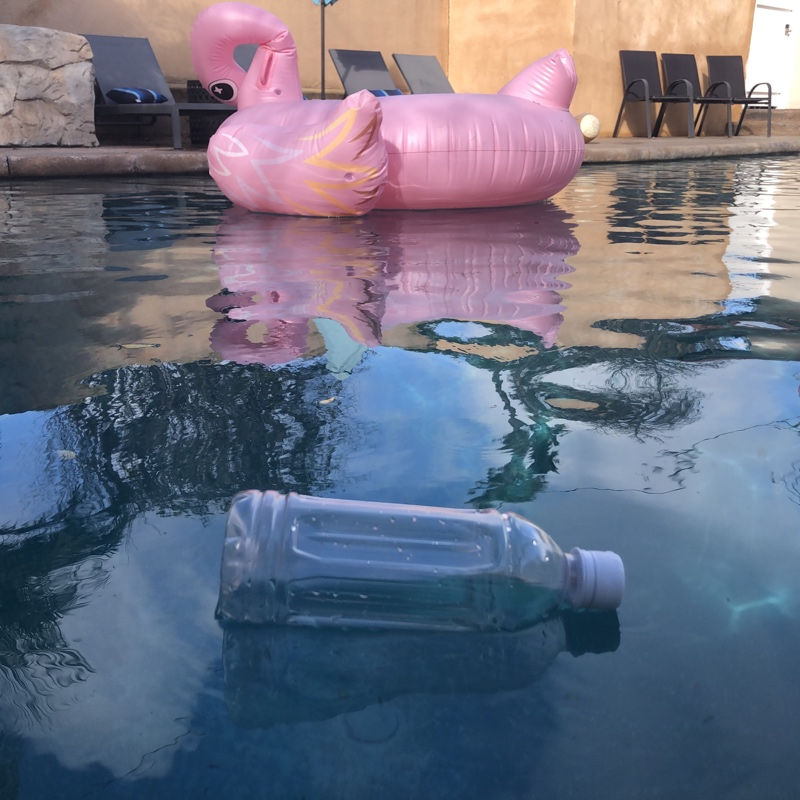Plastic Bottle: (211, 485, 631, 646)
